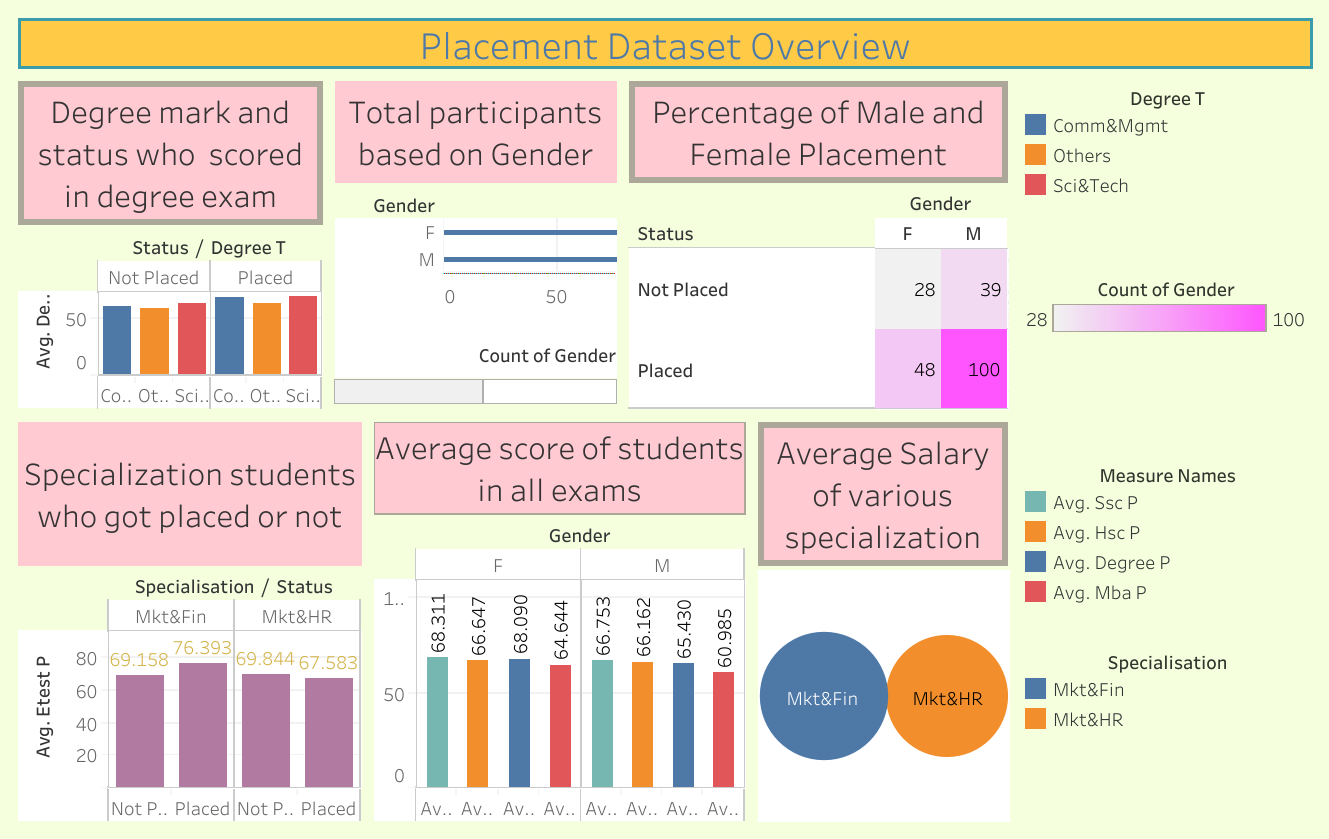

The page's visual inventory and layout, read from the dashboard file:
{"tool":"tableau","page":{"name":"Dashboard 4","canvas":[1000,1000],"units":"permille","ordinal":1},"visuals":[{"type":"title","box":[5.3,10.7,989.3,77.6]},{"type":"worksheet","title":"Sheet 5","mark":"Automatic","rows":["degree_p"],"cols":["status","degree_t"],"box":[5.3,88.4,270,407.9]},{"type":"worksheet","title":"Sheet 1","mark":"Automatic","rows":["gender"],"cols":["gender"],"box":[275.3,88.4,249.8,407.9]},{"type":"worksheet","title":"Sheet 3","mark":"Square","rows":["status"],"cols":["gender"],"box":[525.1,88.4,334.2,407.9]},{"type":"legend","title":"Sheet 5","param":"[federated.1rflh0b138twa516qqvtr0xs4hk9].[none:degree_t:nk]","box":[859.3,88.4,135.3,206.2]},{"type":"legend","title":"Sheet 3","param":"[federated.1rflh0b138twa516qqvtr0xs4hk9].[cnt:gender:qk]","box":[859.3,294.5,135.3,192.8]},{"type":"legend","title":"Sheet 2","param":"[federated.1rflh0b138twa516qqvtr0xs4hk9].[:Measure Names]","box":[859.3,487.3,135.3,251]},{"type":"worksheet","title":"Sheet 6","mark":"Automatic","rows":["etest_p"],"cols":["specialisation","status"],"box":[5.3,496.3,303.5,493]},{"type":"worksheet","title":"Sheet 2","mark":"Automatic","cols":["gender"],"box":[308.8,496.3,327.2,493]},{"type":"worksheet","title":"Sheet 4","mark":"Circle","box":[636,496.3,223.3,493]},{"type":"legend","title":"Sheet 4","param":"[federated.1rflh0b138twa516qqvtr0xs4hk9].[none:specialisation:nk]","box":[859.3,738.3,135.3,251]}]}

Visuals, with their boxes on the dashboard's canvas, which has no fixed pixel size, in thousandths of its width and height (x1, y1, x2, y2). These are canvas units, not pixel positions in the 1329x839 screenshot, which may show the page scaled, cropped or inside an application window:
title: locate(5, 11, 995, 88)
"Sheet 5" worksheet: locate(5, 88, 275, 496)
"Sheet 1" worksheet: locate(275, 88, 525, 496)
"Sheet 3" worksheet (Square marks): locate(525, 88, 859, 496)
"Sheet 5" legend: locate(859, 88, 995, 295)
"Sheet 3" legend: locate(859, 294, 995, 487)
"Sheet 2" legend: locate(859, 487, 995, 738)
"Sheet 6" worksheet: locate(5, 496, 309, 989)
"Sheet 2" worksheet: locate(309, 496, 636, 989)
"Sheet 4" worksheet (Circle marks): locate(636, 496, 859, 989)
"Sheet 4" legend: locate(859, 738, 995, 989)
